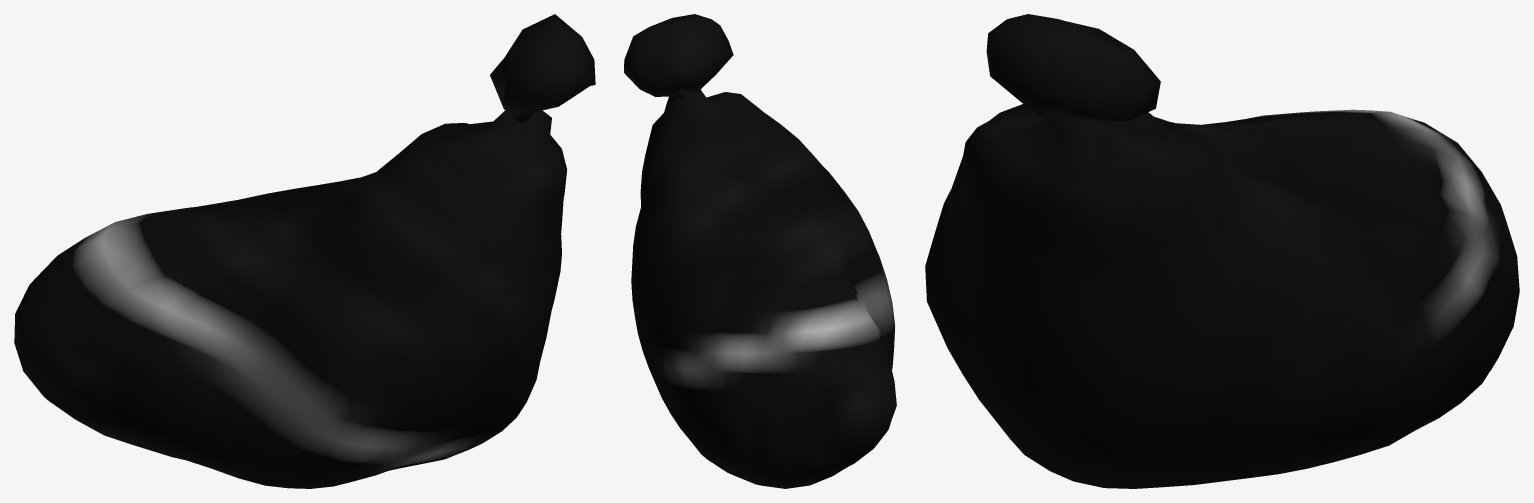
Rendered from BolsaBasura1.fbx.
3 views of the same model, side by side, from view 1: azimuth 30°, elevation 25°; view 2: azimuth 150°, elevation 25°; view 3: azimuth 270°, elevation 25° (orthographic). The views are drawn at different scales.
Visible parts, largest first — view 1: Bolsa de basura 1; view 2: Bolsa de basura 1; view 3: Bolsa de basura 1.
Boxes of the visible parts, bbox=[...] form: Bolsa de basura 1: bbox=[14, 14, 595, 488]; Bolsa de basura 1: bbox=[624, 14, 896, 488]; Bolsa de basura 1: bbox=[925, 14, 1519, 488].
Bounding box in the file's own units: 115 × 110 × 106.
